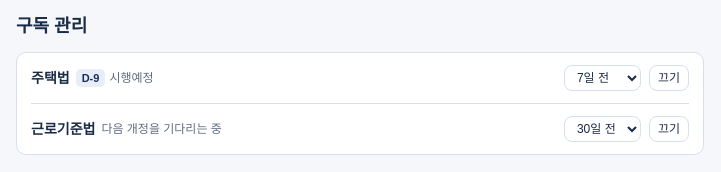
Test: SubscriptionListView › 알림 끄기는 확인 없이 DELETE 하고 목록에서 빠진다
Step 1. Click the button with aria-label "주택법 알림 끄기" → (669, 78), box [649, 65, 689, 91]
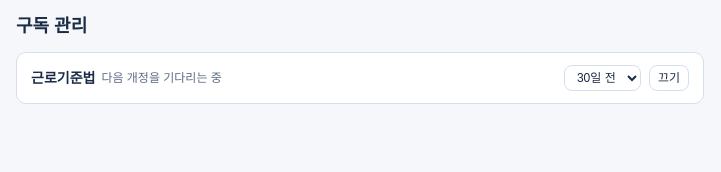
Now the link "주택법" is gone
